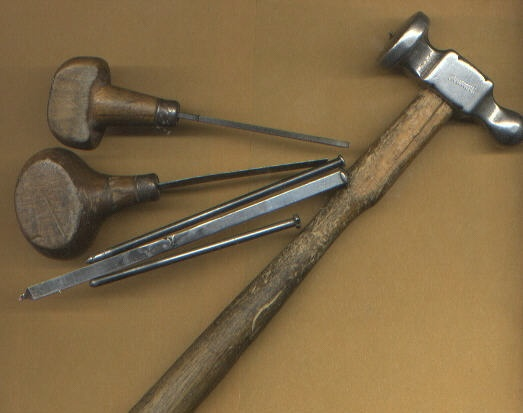hammer: (113, 8, 523, 412)
